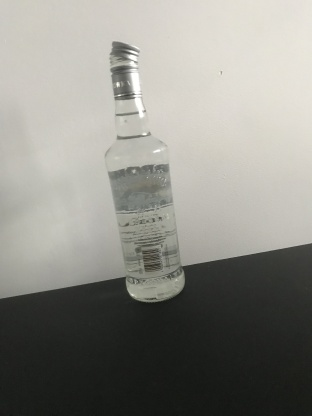nakretka: (107, 38, 144, 102)
